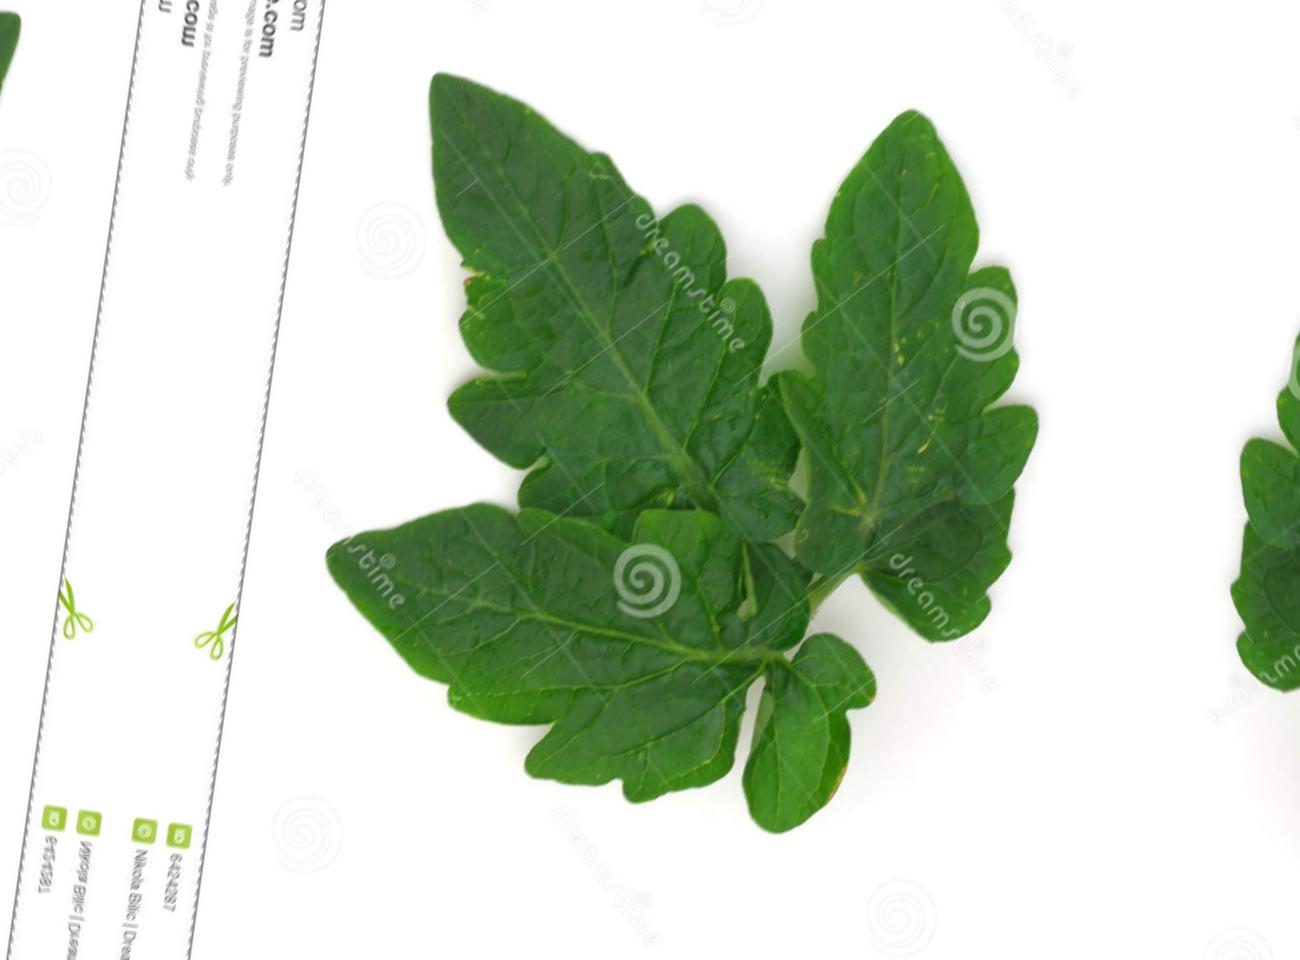Tomato leaf: (326, 67, 891, 639), (701, 161, 1092, 753), (266, 425, 803, 821)
